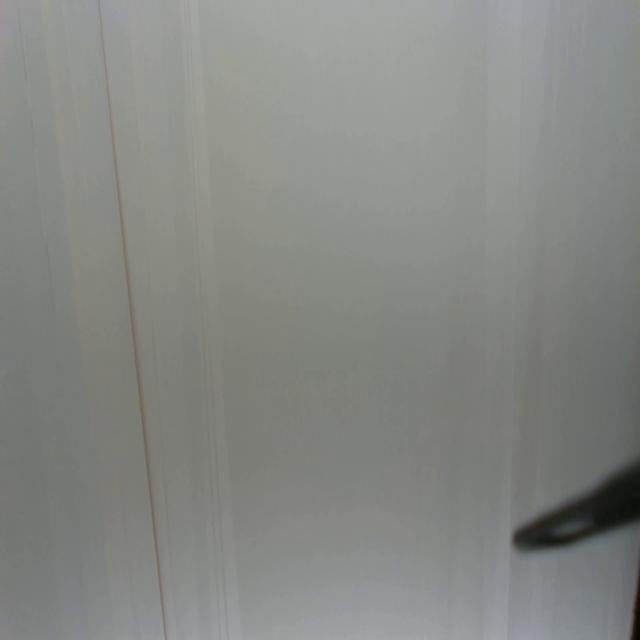crease: (97, 0, 170, 638), (184, 0, 230, 636), (16, 2, 57, 316)
